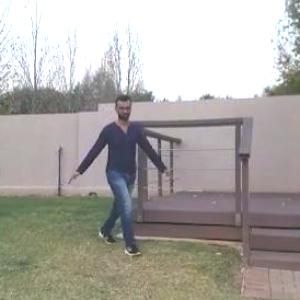land: (65, 84, 174, 273)
